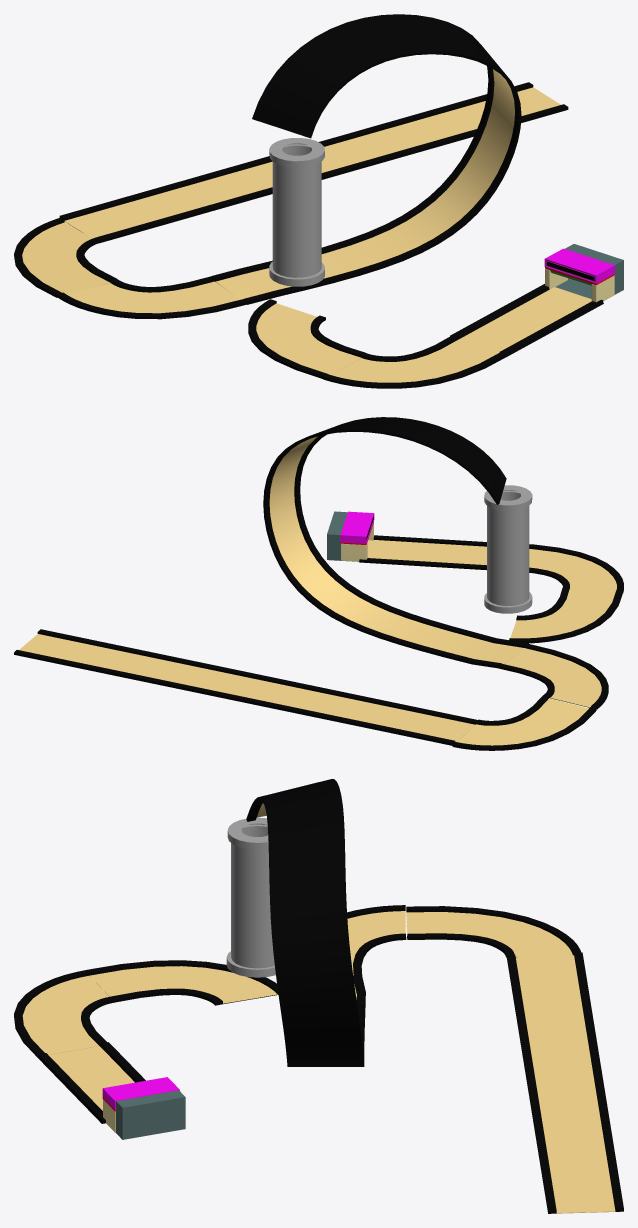
File: Bowiling_Scene (1).fbx
3 renders of one model, top to bottom at view 1: azimuth 30°, elevation 25°; view 2: azimuth 150°, elevation 25°; view 3: azimuth 270°, elevation 25°, orthographic. The views are drawn at different scales.
Parts seen in each view (by area): view 1: Rump, Floor_Stright, Tube, Floor_Curve, Floor_Curve1, Floor, Floor_Curve3, Floor_Curve2, polySurface4, polySurface6; view 2: Rump, Floor_Stright, Tube, Floor_Curve2, Floor_Curve, Floor_Curve3, Floor, Floor_Curve1, polySurface4, polySurface6, polySurface5; view 3: Rump, Floor_Stright, Tube, Floor_Curve3, Floor_Curve2, Floor_Curve1, Floor, polySurface6, Floor_Curve, polySurface4.
Part boxes in pixels (x1=…): Rump: x1=211, y1=14, x2=521, y2=304; Floor_Stright: x1=59, y1=82, x2=568, y2=243; Tube: x1=269, y1=138, x2=324, y2=286; Floor_Curve: x1=56, y1=276, x2=246, y2=319; Floor_Curve1: x1=323, y1=336, x2=506, y2=388; Floor: x1=450, y1=284, x2=603, y2=356; Floor_Curve3: x1=248, y1=299, x2=366, y2=378; Floor_Curve2: x1=14, y1=218, x2=116, y2=297; polySurface4: x1=544, y1=248, x2=614, y2=283; polySurface6: x1=555, y1=244, x2=623, y2=298; Rump: x1=263, y1=417, x2=528, y2=668; Floor_Stright: x1=14, y1=629, x2=477, y2=745; Tube: x1=484, y1=485, x2=532, y2=613; Floor_Curve2: x1=452, y1=695, x2=596, y2=750; Floor_Curve: x1=498, y1=644, x2=608, y2=709; Floor_Curve3: x1=509, y1=587, x2=622, y2=643; Floor: x1=359, y1=535, x2=486, y2=570; Floor_Curve1: x1=529, y1=544, x2=623, y2=592; polySurface4: x1=340, y1=511, x2=374, y2=543; polySurface6: x1=327, y1=511, x2=357, y2=561; polySurface5: x1=341, y1=543, x2=367, y2=561; Rump: x1=246, y1=779, x2=365, y2=1066; Floor_Stright: x1=506, y1=952, x2=623, y2=1213; Tube: x1=226, y1=817, x2=275, y2=977; Floor_Curve3: x1=86, y1=960, x2=278, y2=1005; Floor_Curve2: x1=406, y1=906, x2=581, y2=957; Floor_Curve1: x1=14, y1=970, x2=114, y2=1056; Floor: x1=37, y1=1042, x2=145, y2=1123; polySurface6: x1=116, y1=1090, x2=185, y2=1139; Floor_Curve: x1=347, y1=905, x2=406, y2=975; polySurface4: x1=102, y1=1077, x2=179, y2=1109.
Bounding box in the file's own units: 1271 × 497 × 1074.
